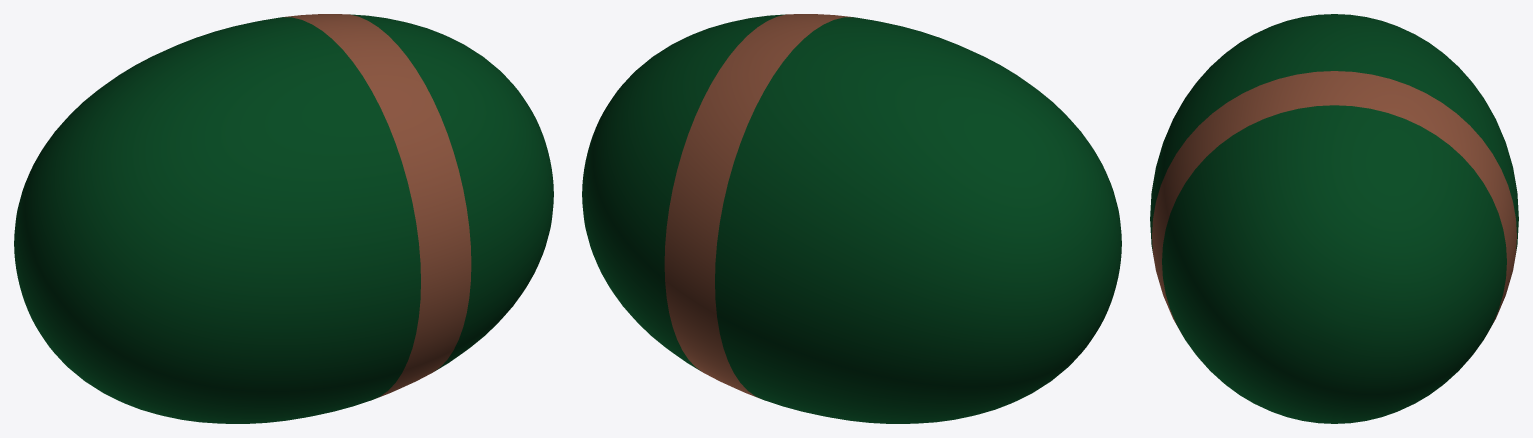
File: ERF.fbx
3 views of the same model, side by side, from view 1: azimuth 30°, elevation 25°; view 2: azimuth 150°, elevation 25°; view 3: azimuth 270°, elevation 25° (orthographic). The views are drawn at different scales.
Visible parts, largest first — view 1: pSphere1; view 2: pSphere1; view 3: pSphere1.
Boxes of the visible parts, box(x1,y1,x2,y2) form: pSphere1: box(14, 14, 553, 423); pSphere1: box(582, 14, 1121, 423); pSphere1: box(1150, 14, 1518, 423).
Size of the model in its own units: 15.31 by 10.72 by 10.72.
